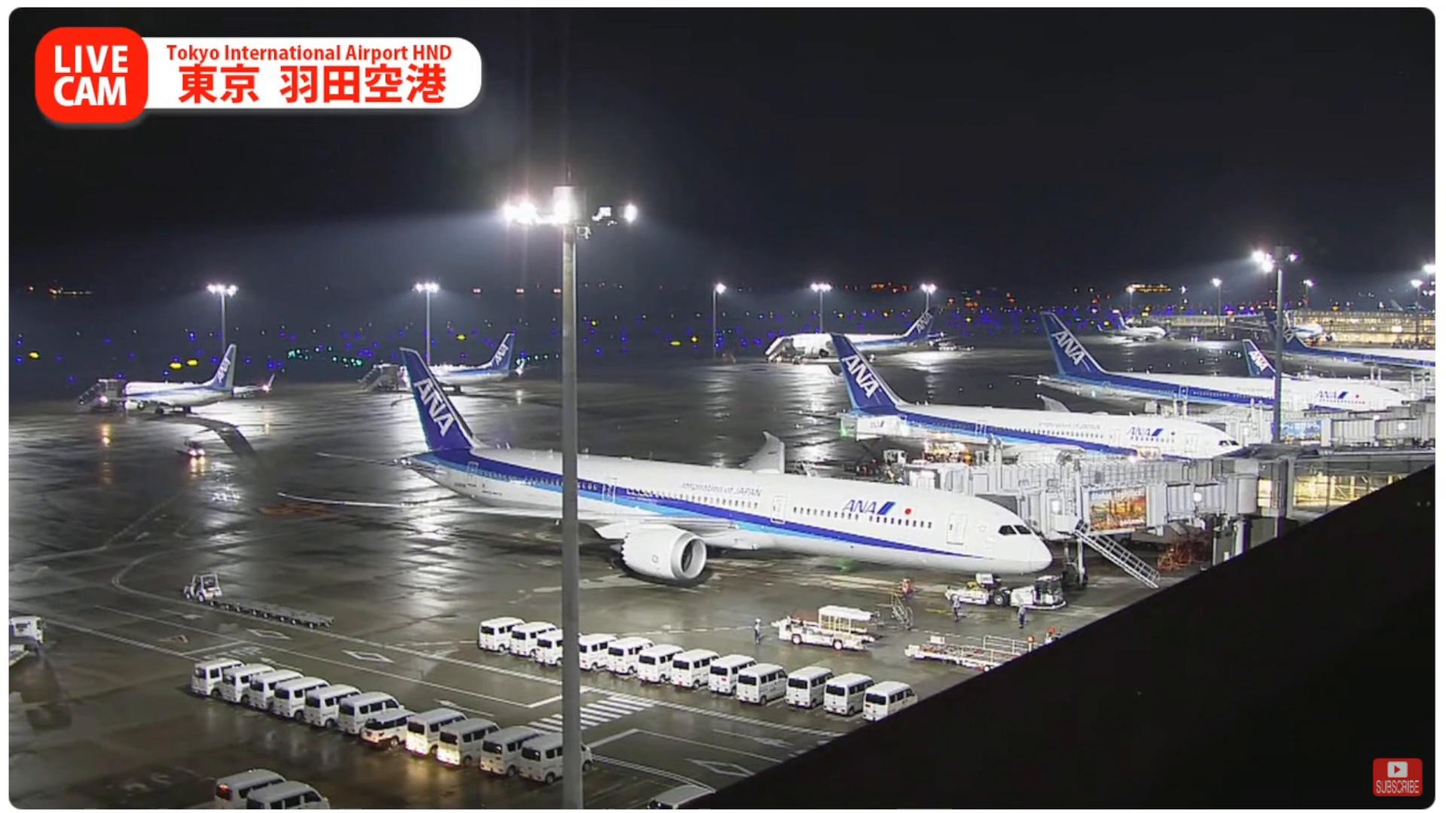Aerobridge: (904, 454, 1290, 516), (978, 469, 1279, 540)
Airplane: (266, 342, 1061, 592)
Dolly: (217, 593, 346, 639)
JCPL: (895, 638, 1018, 677), (950, 628, 1054, 653)
Skyloader: (765, 599, 889, 659)
Tow Tug: (944, 577, 1072, 613)
Tractor: (169, 569, 227, 611)
Window: (1291, 459, 1429, 518)
